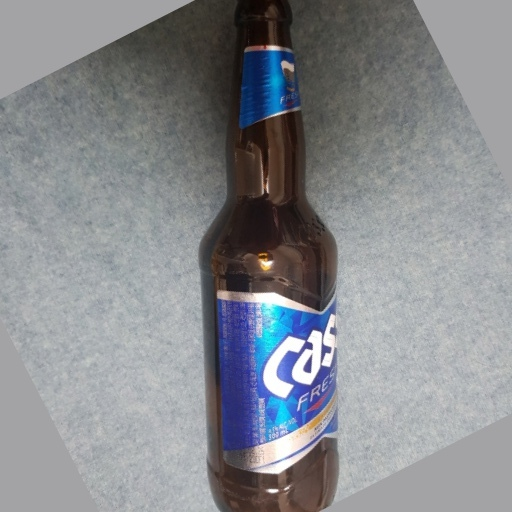Glass_1: (194, 4, 349, 512)
